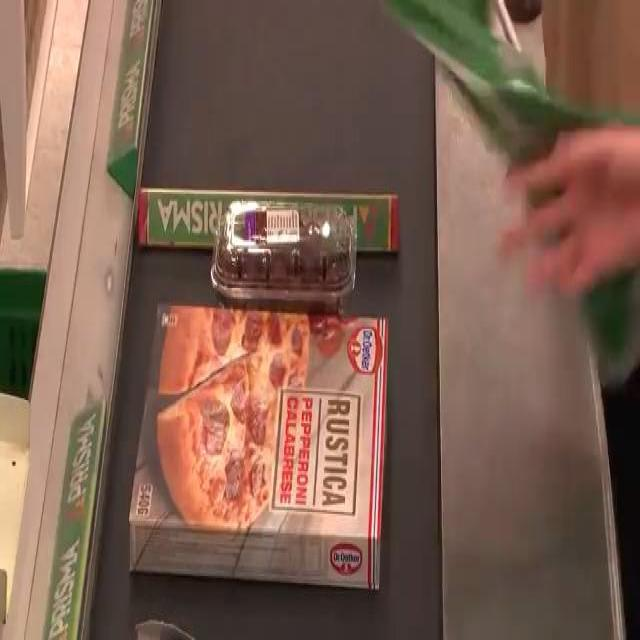food-box: (130, 310, 396, 572)
fruit: (214, 196, 362, 295)
